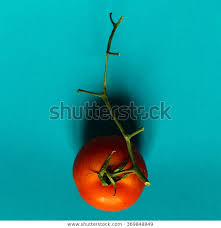tomato: (73, 137, 148, 210)
